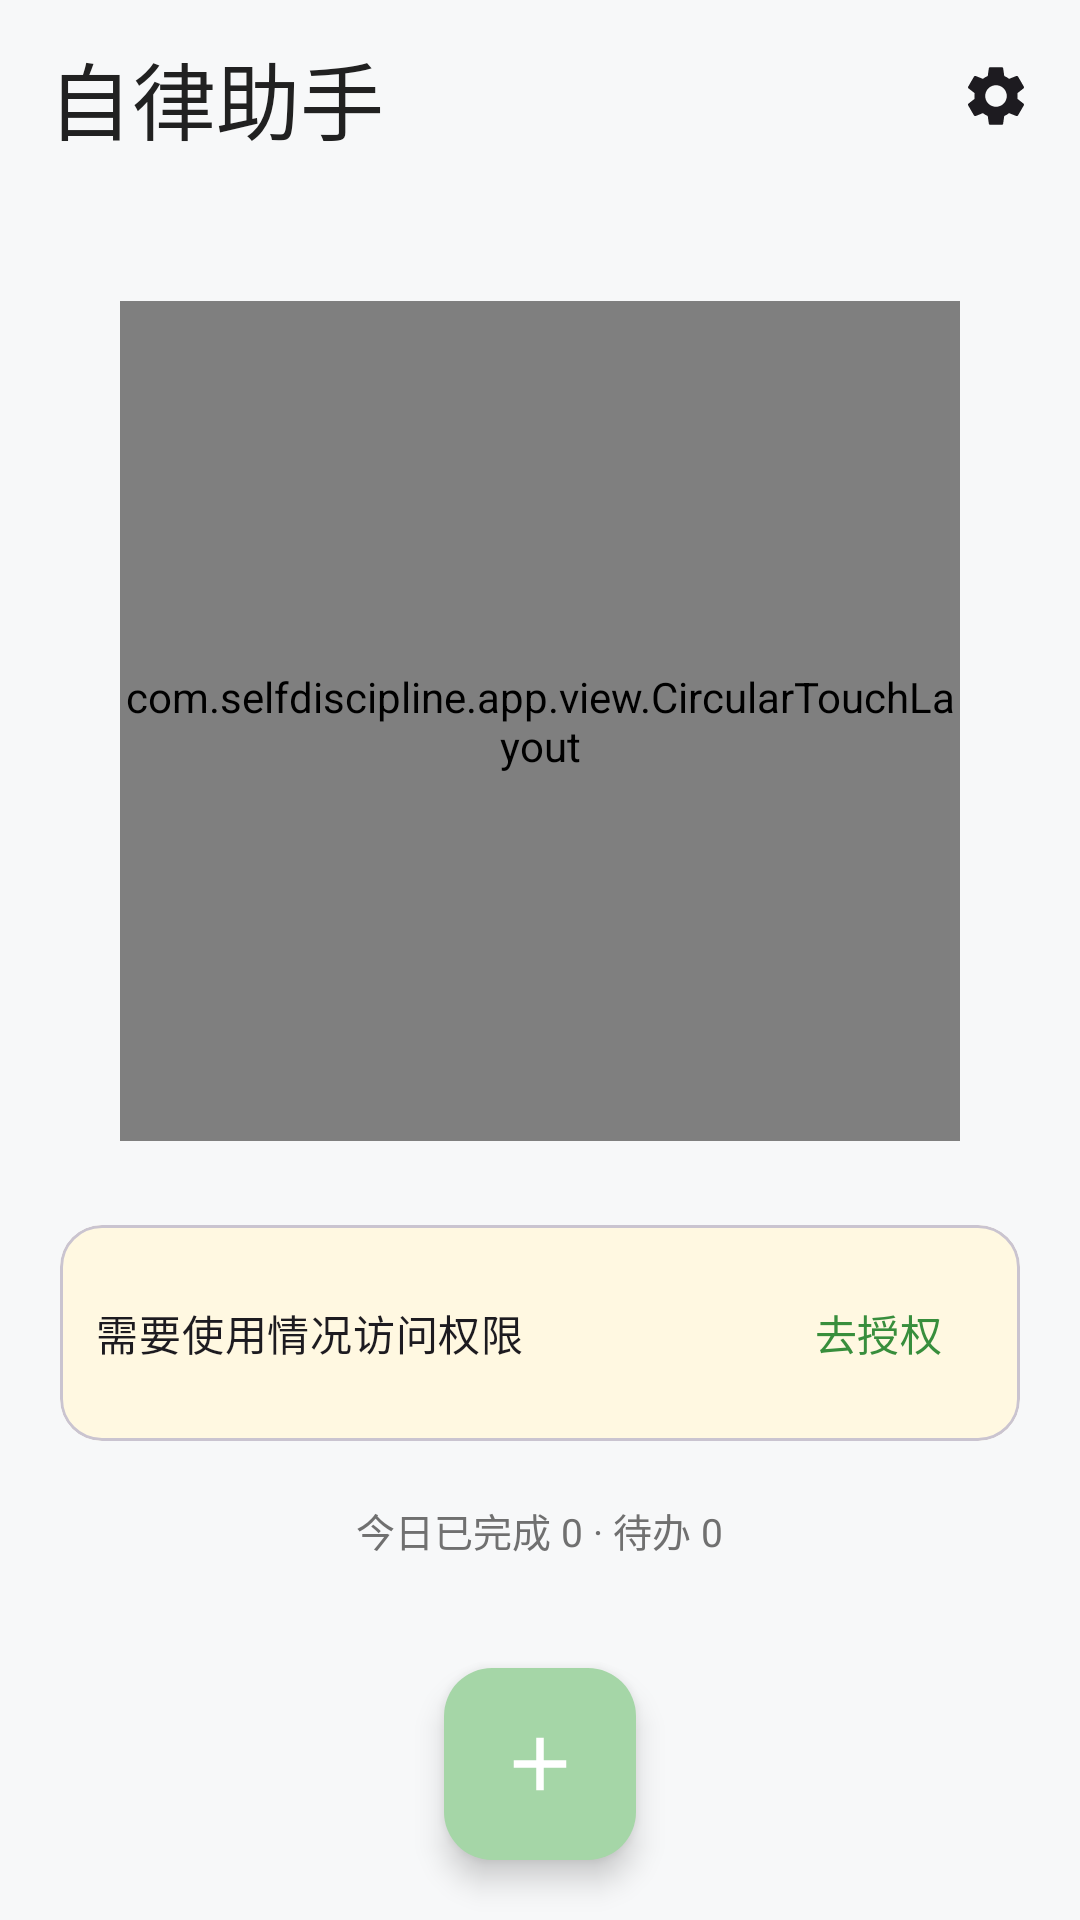

Screen size 1080px x 1920px. Icon name, then its center in pixels as [x,y]:
新增待办: [540,1764]
设置: [996,96]
